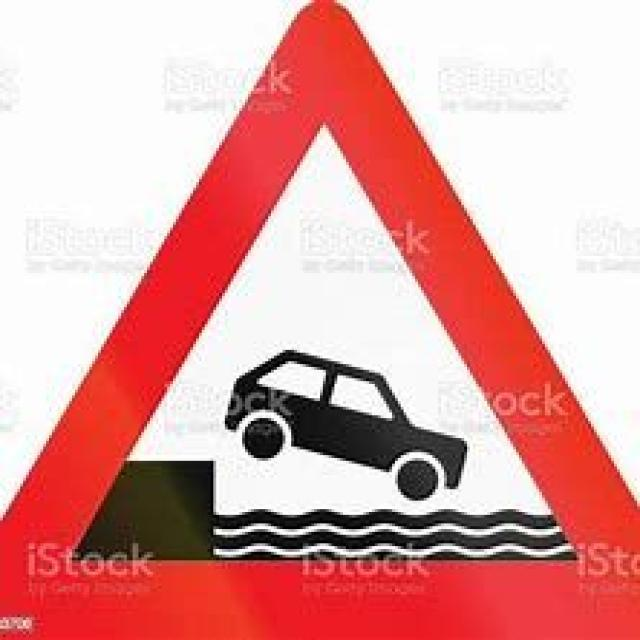quay side or river bank: (20, 20, 619, 618)
